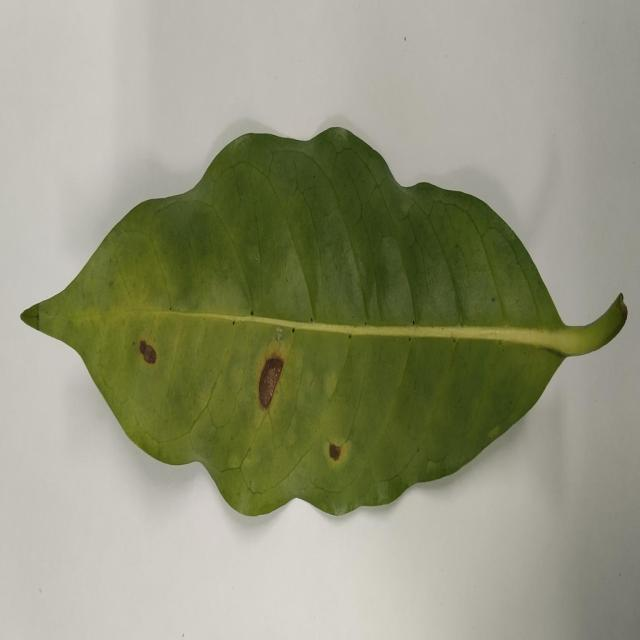Enfermedad-Mancha-de-hierro: (20, 128, 591, 520)
